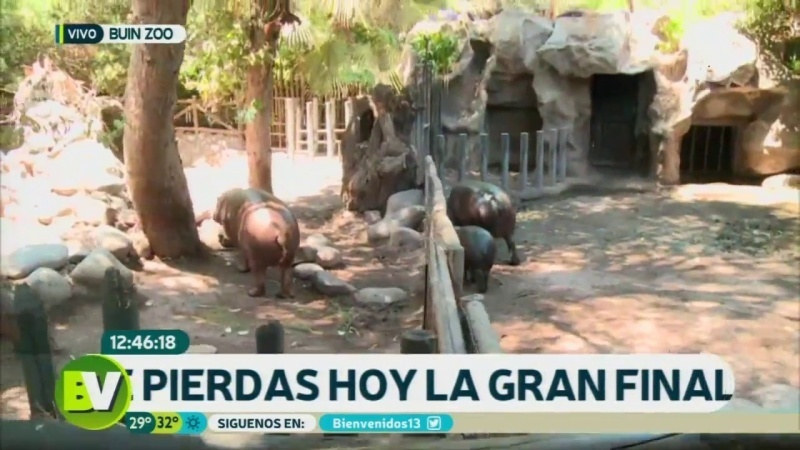hipopotamo: (202, 183, 316, 306), (441, 170, 529, 269), (446, 219, 499, 298)
